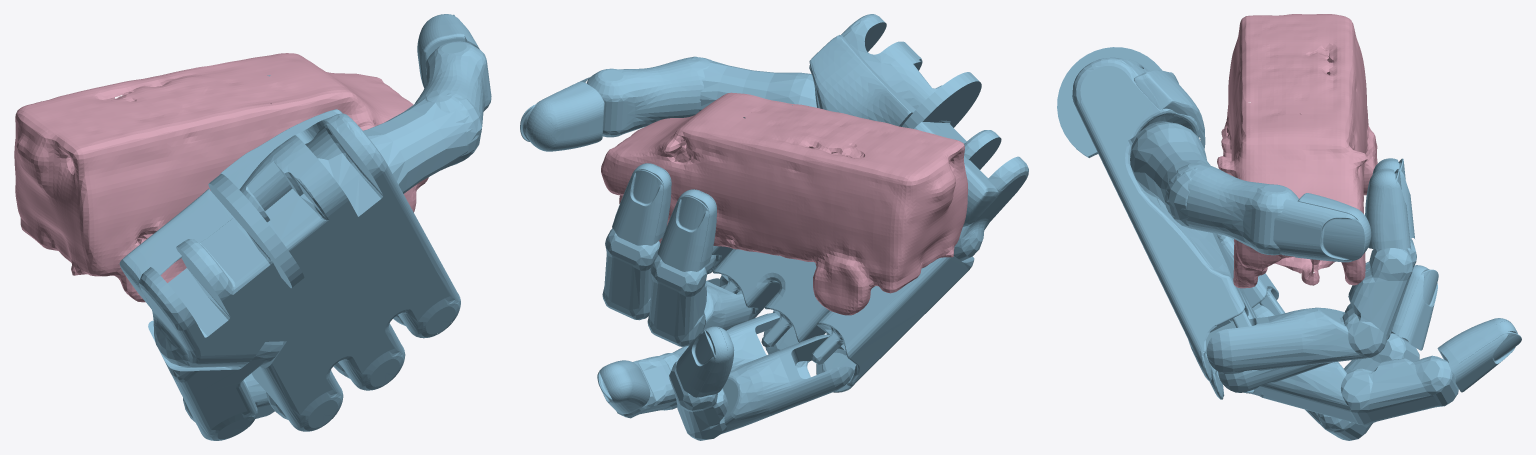
The picture shows the model from 3 angles, left to right: view 1: azimuth 30°, elevation 25°; view 2: azimuth 150°, elevation 25°; view 3: azimuth 270°, elevation 25°; orthographic projection. The views are drawn at different scales.
Visible parts, largest first — view 1: hand, world; view 2: hand, world; view 3: hand, world.
Boxes of the visible parts, box(x1,y1,x2,y2) form: hand: box(119, 14, 491, 440); world: box(14, 53, 428, 302); hand: box(520, 14, 1028, 440); world: box(601, 92, 967, 315); hand: box(1057, 47, 1521, 440); world: box(1217, 14, 1377, 288).
Bounding box in the file's own units: 0.158 × 0.1316 × 0.1551.
